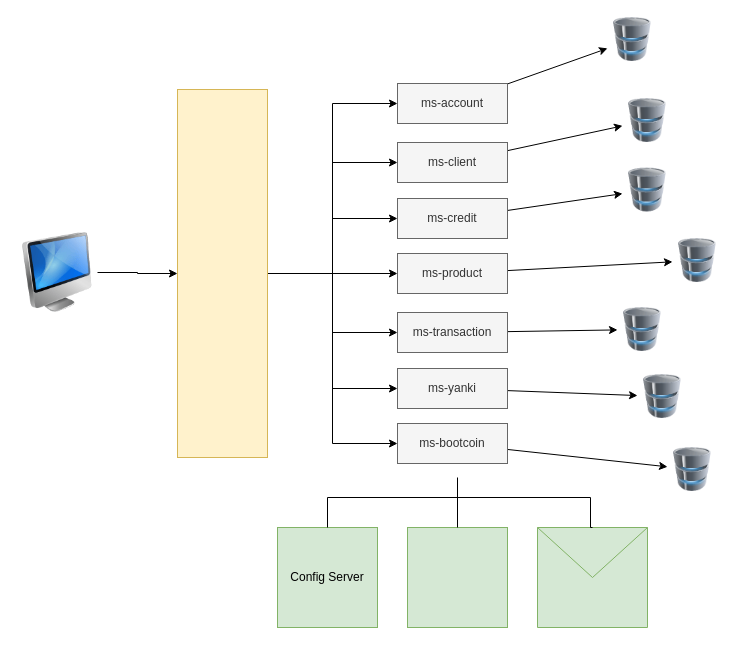
Image size: 739x645. Some labels were removed from this diagram. Here are the shapes that lost their labels. From the top down, the centre of each, then its label:
At (222,273): "API Gateway".
At (457,577): "Service Registry".
At (592,577): "Apache Kafka".
